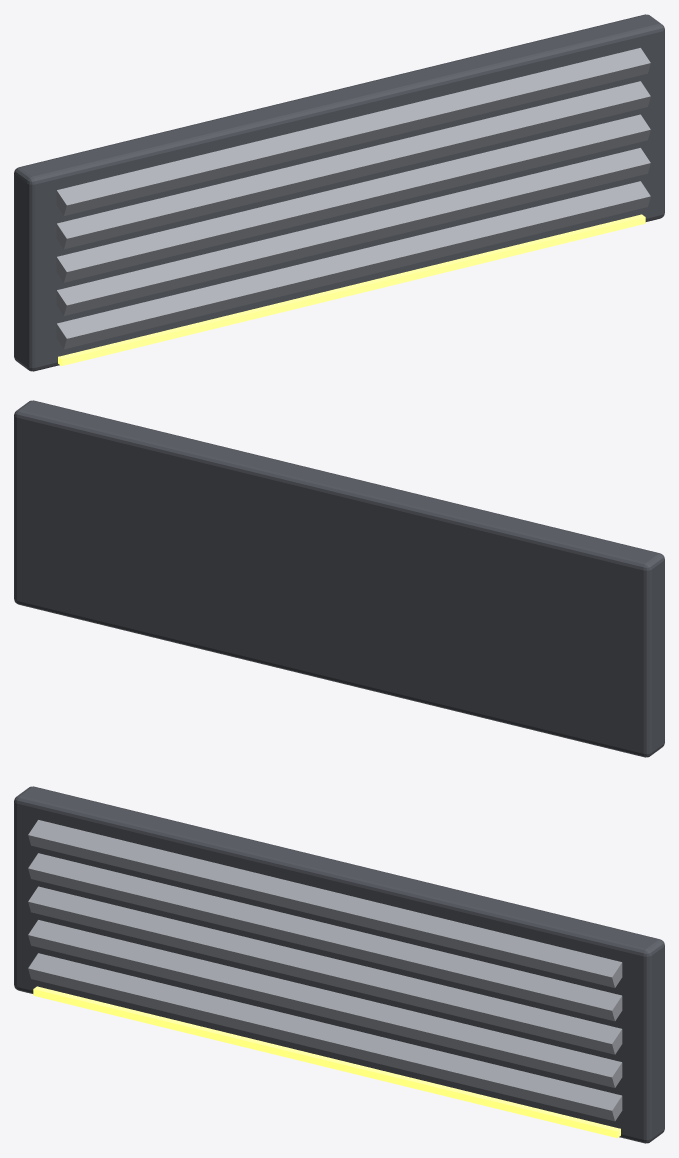
The model's file is wall_vent_louver_wide.glb.
3 renders of one model, top to bottom at view 1: azimuth 30°, elevation 25°; view 2: azimuth 150°, elevation 25°; view 3: azimuth 330°, elevation 25°, orthographic.
Visible parts, largest first — view 1: GD_wall_vent_louver_wide__m1, GD_wall_vent_louver_wide__m0, GD_wall_vent_louver_wide__m2; view 2: GD_wall_vent_louver_wide__m0; view 3: GD_wall_vent_louver_wide__m1, GD_wall_vent_louver_wide__m0, GD_wall_vent_louver_wide__m2.
Boxes of the visible parts, <box> form: GD_wall_vent_louver_wide__m1: <box>56,48,650,349</box>; GD_wall_vent_louver_wide__m0: <box>14,14,664,371</box>; GD_wall_vent_louver_wide__m2: <box>58,214,645,366</box>; GD_wall_vent_louver_wide__m0: <box>14,400,664,757</box>; GD_wall_vent_louver_wide__m1: <box>28,820,622,1121</box>; GD_wall_vent_louver_wide__m0: <box>14,786,664,1143</box>; GD_wall_vent_louver_wide__m2: <box>33,986,620,1138</box>.
Size of the model in its own units: 1.2 by 0.35 by 0.0933.
